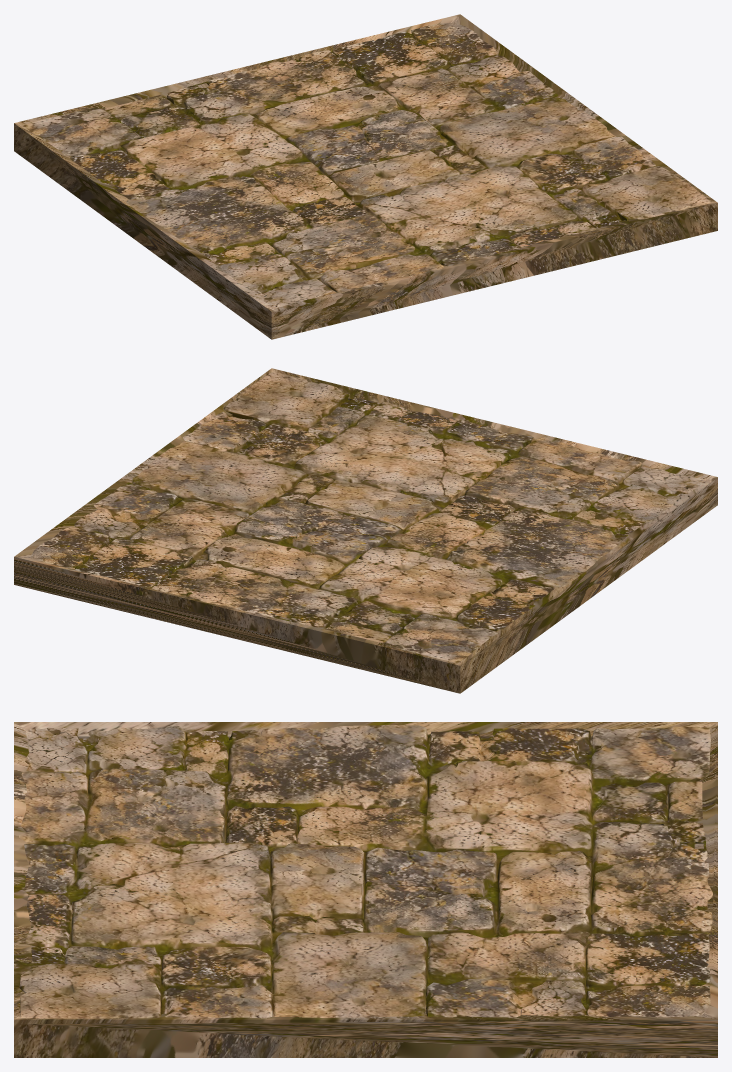
The model's file is ARQ_PisoPiedraMaya_01_LOD0.fbx.
The picture shows the model from 3 angles, top to bottom: view 1: azimuth 30°, elevation 25°; view 2: azimuth 150°, elevation 25°; view 3: azimuth 270°, elevation 25°; orthographic projection. The views are drawn at different scales.
Visible parts, largest first — view 1: ARQ_PisoPiedraMaya_01_Mesh000; view 2: ARQ_PisoPiedraMaya_01_Mesh000; view 3: ARQ_PisoPiedraMaya_01_Mesh000.
Part boxes in pixels (left/top/right/bottom): ARQ_PisoPiedraMaya_01_Mesh000: left=14, top=14, right=717, bottom=339; ARQ_PisoPiedraMaya_01_Mesh000: left=14, top=368, right=717, bottom=693; ARQ_PisoPiedraMaya_01_Mesh000: left=14, top=722, right=717, bottom=1057.
Bounding box in the file's own units: 3 × 0.18 × 3.
